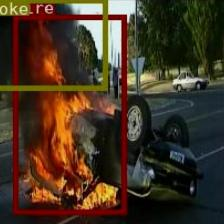fire: (13, 14, 125, 213)
smoke: (0, 0, 106, 90)
